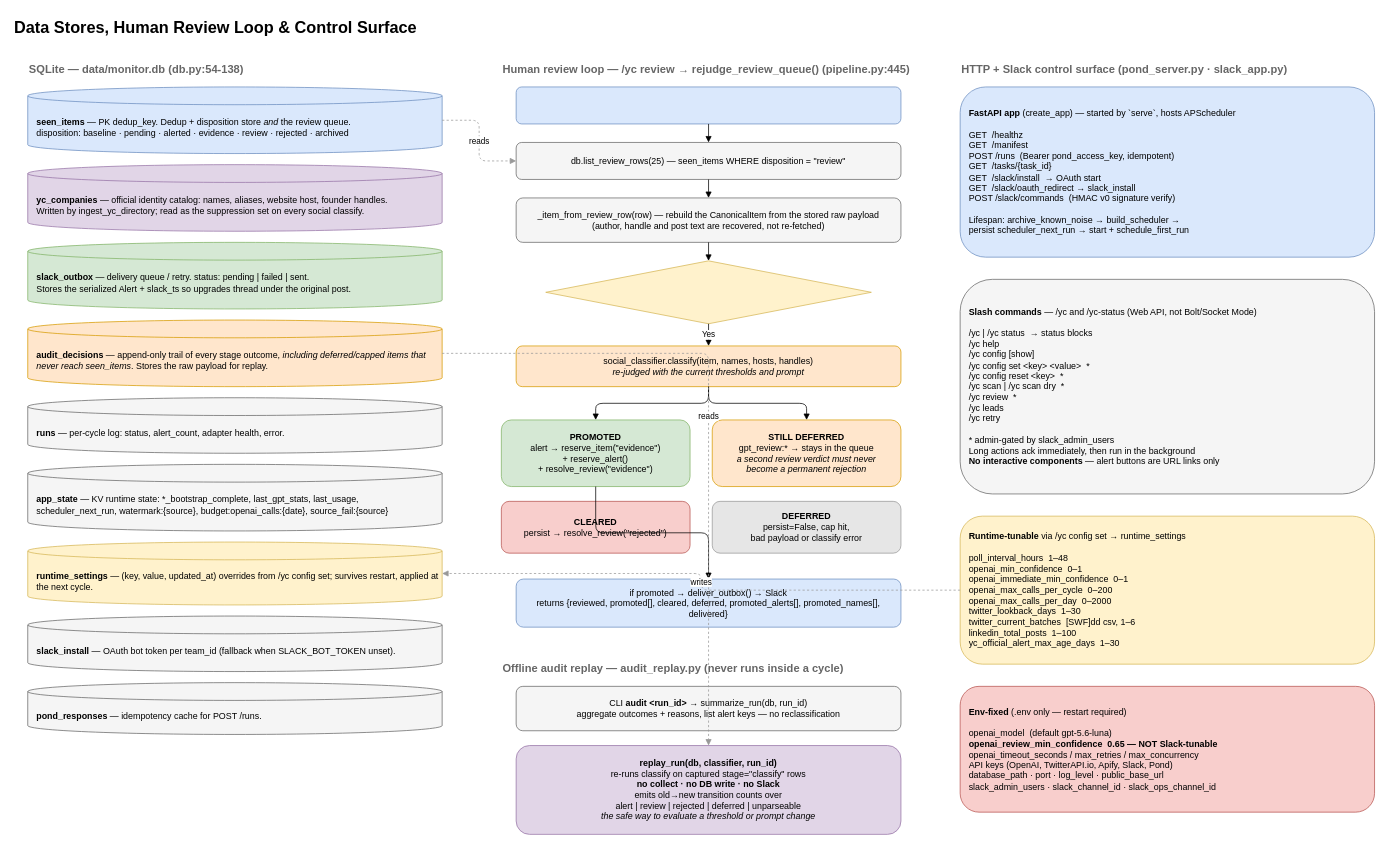
Image size: 1388x847. Some labels were removed from this diagram. Here are the shapes that lost their labels. From the top down, the centre of each, then its label:
[708,105]: /yc review (admin) → rejudge_review_queue(limit=25)
[708,292]: reviewed < openai_max_calls_per_cycle?
